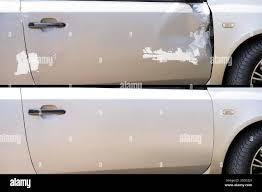dent: (157, 6, 208, 52)
scratch: (138, 1, 215, 70), (13, 46, 42, 84)
